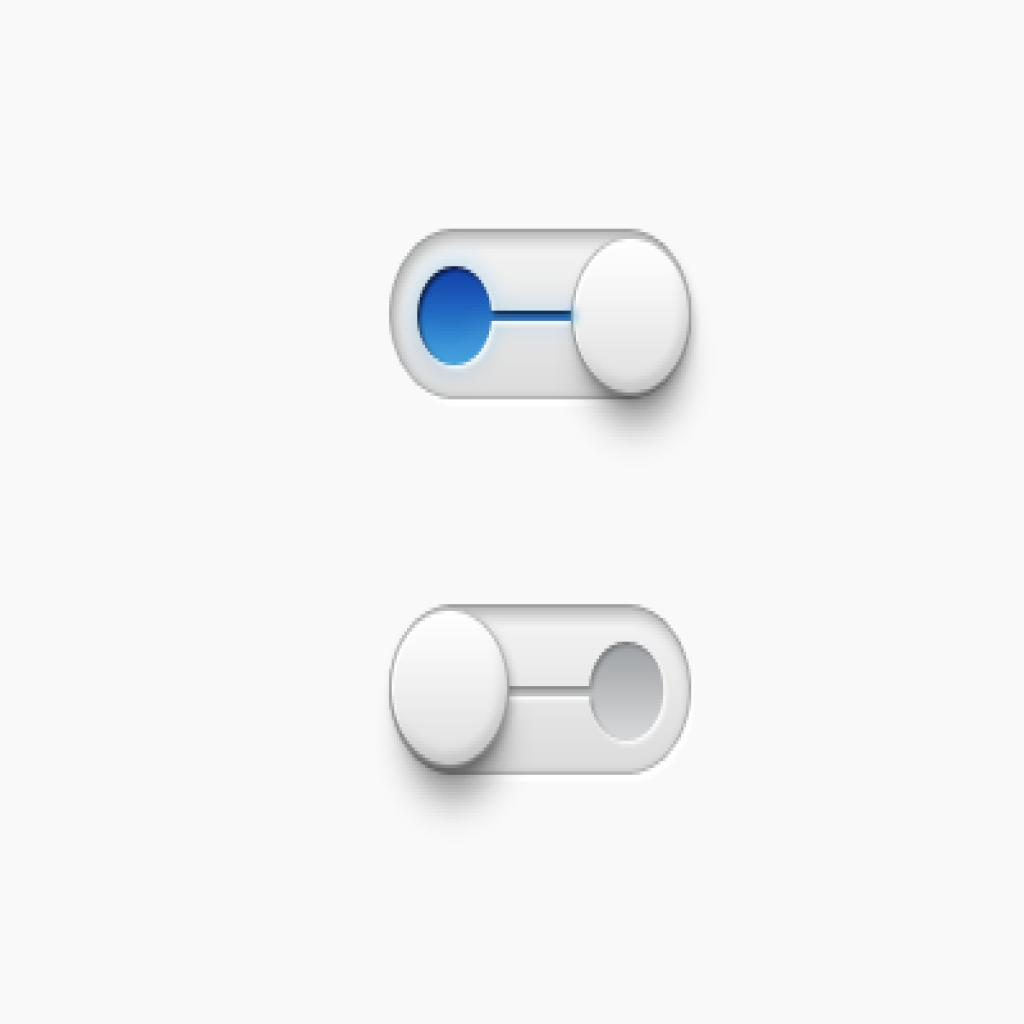switch: (388, 605, 694, 777), (386, 230, 692, 401)
